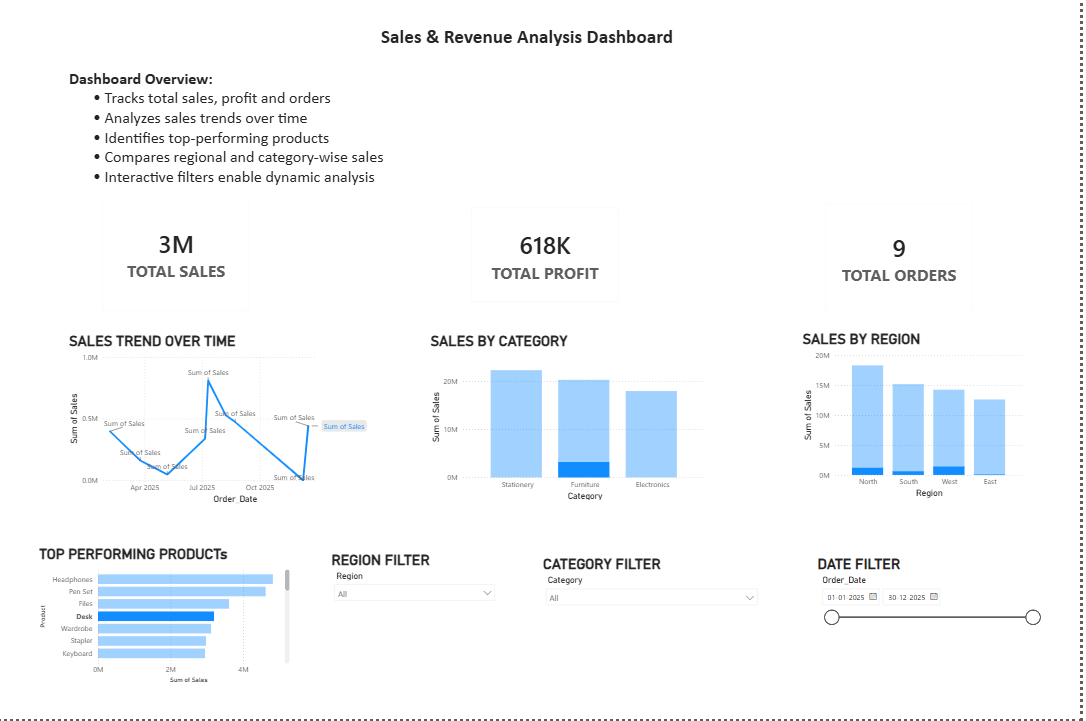

Layout of this report page (visuals, bound fields, positions):
{"tool":"powerbi","page":{"name":"Page 1","canvas":[1800,1200],"ordinal":0},"visuals":[{"type":"cardVisual","fields":{"Data":["Sum(Sales_Data.Sales)"]},"box":[152.5,310,280,227.5],"z":0},{"type":"cardVisual","fields":{"Data":["Sum(Sales_Data.Profit)"]},"box":[767.5,330,280,192.5],"z":1000},{"type":"cardVisual","fields":{"Data":["CountNonNull(Sales_Data.Order_ID)"]},"box":[1357.5,322.5,280,215],"z":2000},{"type":"lineChart","title":"SALES TREND OVER TIME","fields":{"Y":["Sum(Sales_Data.Sales)"],"Category":["Sales_Data.Order_Date"]},"box":[110,555,520,290],"z":3000},{"type":"lineClusteredColumnComboChart","title":"SALES BY CATEGORY","fields":{"Category":["Sales_Data.Category"],"Y":["Sum(Sales_Data.Sales)"]},"box":[712.5,555,470,285],"z":4000},{"type":"lineClusteredColumnComboChart","title":"SALES BY REGION","fields":{"Category":["Sales_Data.Region"],"Y":["Sum(Sales_Data.Sales)"]},"box":[1333.3,553.3,376.7,283.3],"z":5000},{"type":"clusteredBarChart","title":"TOP PERFORMING PRODUCTs","fields":{"Category":["Sales_Data.Product"],"Y":["Sum(Sales_Data.Sales)"]},"box":[60,910,427.5,235],"z":6000},{"type":"slicer","title":"REGION FILTER","fields":{"Values":["Sales_Data.Region"]},"box":[547.5,920,287.5,225],"z":7000},{"type":"slicer","title":"CATEGORY FILTER","fields":{"Values":["Sales_Data.Category"]},"box":[900,927.5,372.5,207.5],"z":8000},{"type":"slicer","title":"DATE FILTER","fields":{"Values":["Sales_Data.Order_Date"]},"box":[1357.5,927.5,385,232.5],"z":9000},{"type":"textbox","box":[630,32.5,552.5,100],"z":10000},{"type":"textbox","box":[110,93.3,996.7,236.7],"z":10001}]}

Visuals, with their boxes in screenshot pixels (x1, y1, x2, y2), scaled from the page's 1800x1200 canvas onto the 1086x721 screenshot:
cardVisual - Sum(Sales_Data.Sales): 92:186:261:323
cardVisual - Sum(Sales_Data.Profit): 463:198:632:314
cardVisual - CountNonNull(Sales_Data.Order_ID): 819:194:988:323
"SALES TREND OVER TIME" lineChart: 66:333:380:508
"SALES BY CATEGORY" lineClusteredColumnComboChart: 430:333:713:505
"SALES BY REGION" lineClusteredColumnComboChart: 804:332:1032:503
"TOP PERFORMING PRODUCTs" clusteredBarChart: 36:547:294:688
"REGION FILTER" slicer: 330:553:504:688
"CATEGORY FILTER" slicer: 543:557:768:682
"DATE FILTER" slicer: 819:557:1051:697
textbox: 380:20:713:80
textbox: 66:56:668:198
